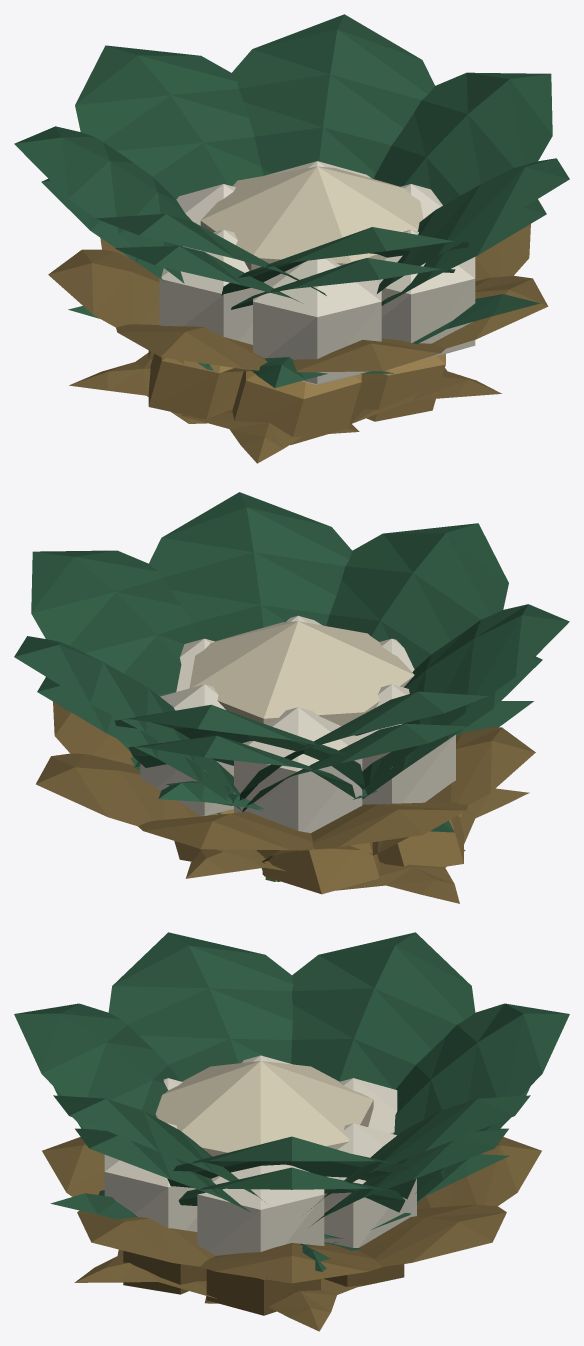
Rendered from spring_cauliflower.glb.
3 renders of one model, top to bottom at view 1: azimuth 30°, elevation 25°; view 2: azimuth 150°, elevation 25°; view 3: azimuth 270°, elevation 25°, orthographic.
Parts seen in each view (by area): view 1: stage3, dead, stage2; view 2: stage3, dead, stage2; view 3: stage3, dead, stage2.
Boxes of the visible parts, box(x1,y1,x2,y2) form: stage3: box(14, 14, 569, 387); dead: box(48, 224, 548, 463); stage2: box(41, 178, 546, 309); stage3: box(14, 492, 569, 881); dead: box(36, 701, 535, 903); stage2: box(37, 656, 542, 811); stage3: box(14, 932, 569, 1271); dead: box(42, 1137, 541, 1331); stage2: box(53, 1086, 530, 1225).
Bounding box in the file's own units: 0.6083 × 0.326 × 0.624.
